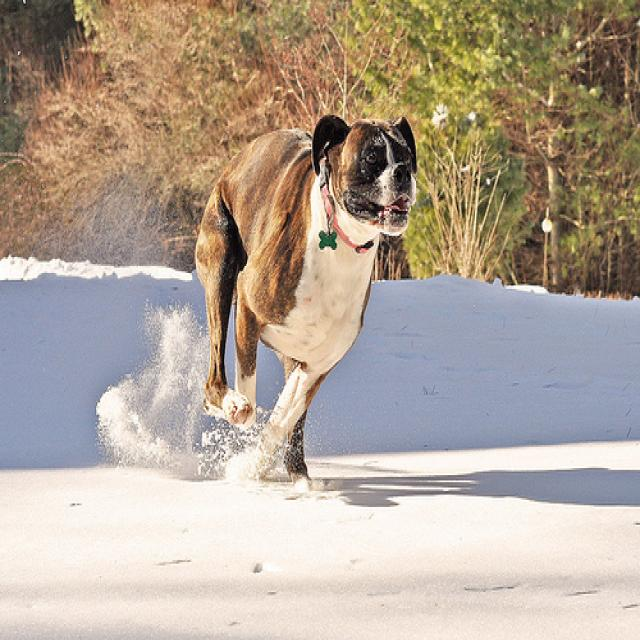dog-boxer: (183, 106, 424, 496)
